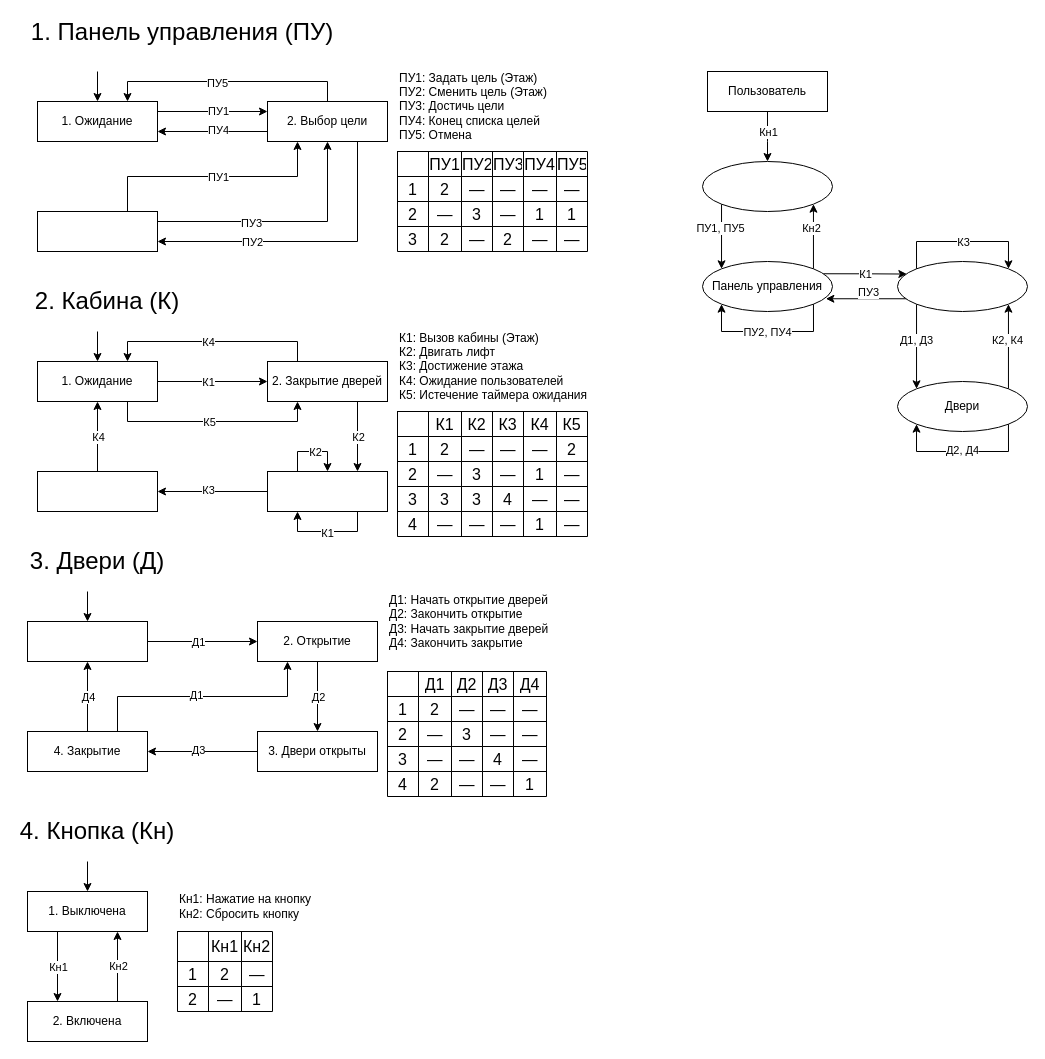
The diagram is 1045 pixels wide and 1059 high, and some of its shapes have lost their labels. Each missing label, with the centre of its shape:
1. Двери закрыты: the point at 87,641
3. В работе: the point at 97,231
3. Движение: the point at 327,491
4. Открытие дверей: the point at 97,491
Кабина: the point at 962,286
Кнопка: the point at 767,186
